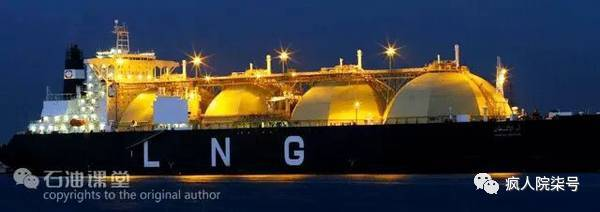Cargoship: (2, 17, 600, 177)
